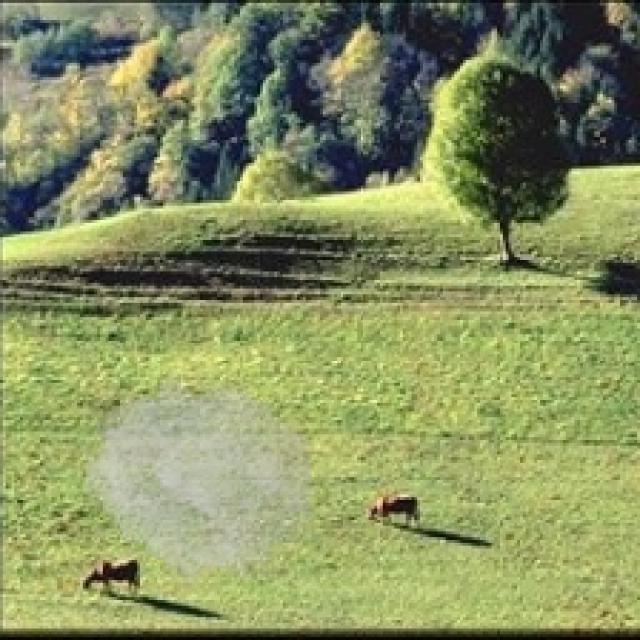smoke: (86, 372, 311, 588)
